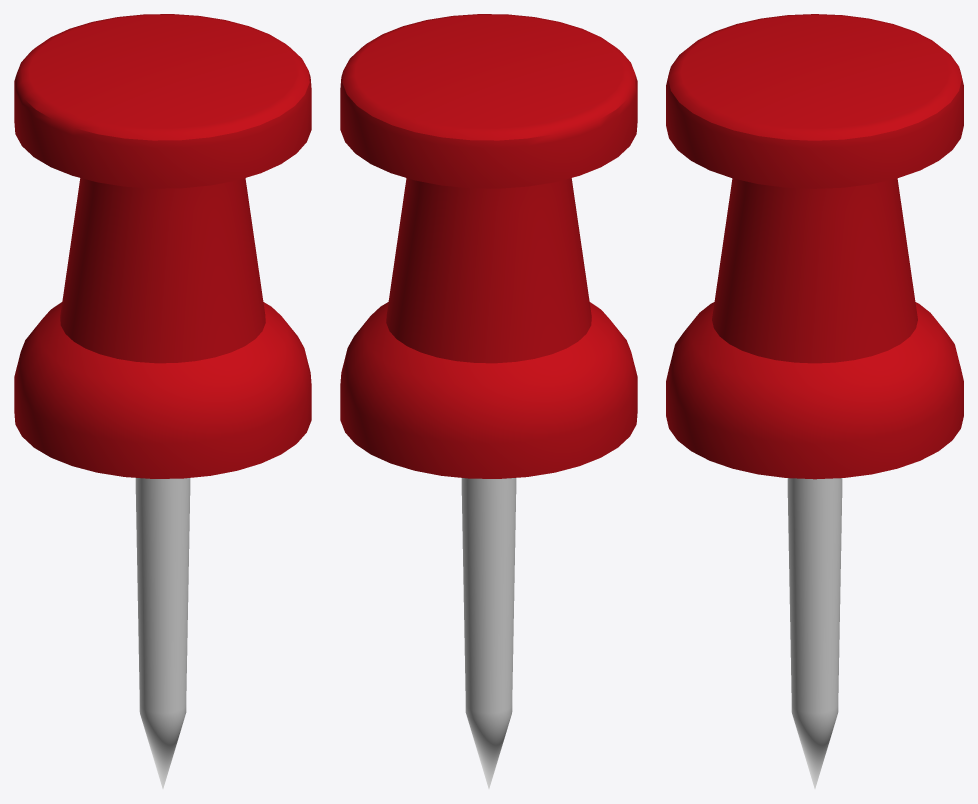
The model's file is tachuelablend.fbx.
The picture shows the model from 3 angles, left to right: view 1: azimuth 30°, elevation 25°; view 2: azimuth 150°, elevation 25°; view 3: azimuth 270°, elevation 25°; orthographic projection.
Parts seen in each view (by area): view 1: Cylinder; view 2: Cylinder; view 3: Cylinder.
Part boxes in pixels (left/top/right/bottom): Cylinder: left=14, top=14, right=311, bottom=788; Cylinder: left=340, top=14, right=637, bottom=788; Cylinder: left=666, top=14, right=963, bottom=788.
Bounding box in the file's own units: 16.5 × 43.89 × 16.5.
